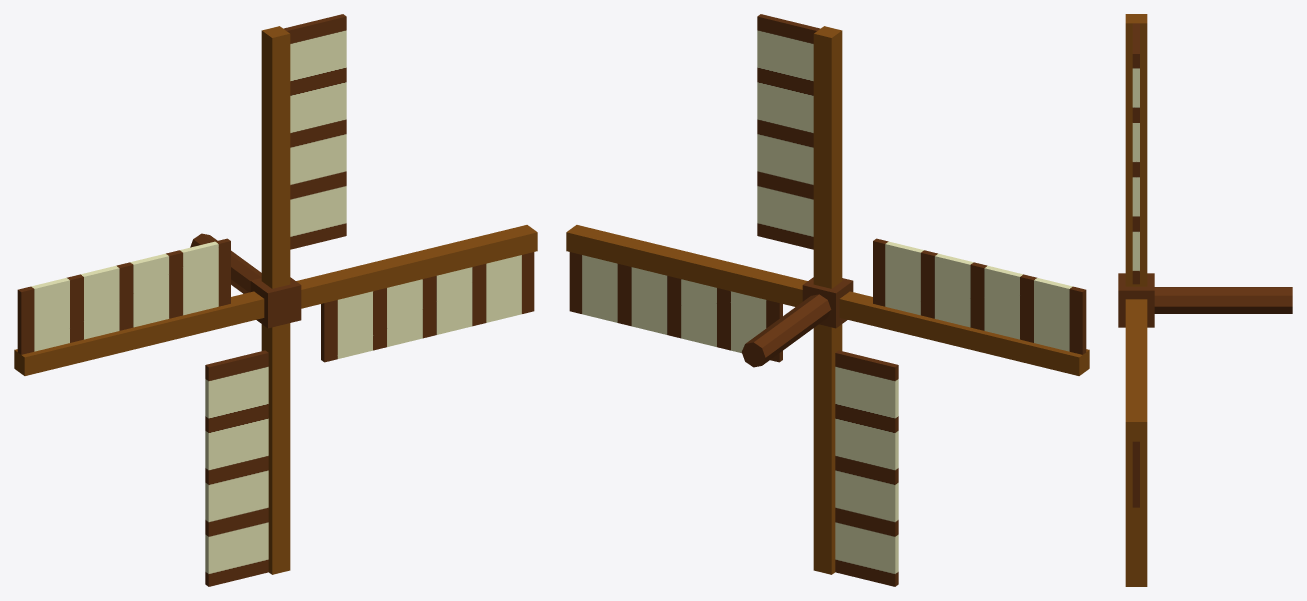
Rendered from Windmill_01_Propeller.fbx.
3 renders of one model, left to right at view 1: azimuth 30°, elevation 25°; view 2: azimuth 150°, elevation 25°; view 3: azimuth 270°, elevation 25°, orthographic. The views are drawn at different scales.
Visible parts, largest first — view 1: Windmill_01_Propeller; view 2: Windmill_01_Propeller; view 3: Windmill_01_Propeller.
Part boxes in pixels (<box>): Windmill_01_Propeller: <box>14,14,537,586</box>; Windmill_01_Propeller: <box>566,14,1089,586</box>; Windmill_01_Propeller: <box>1118,14,1292,586</box>.
Size of the model in its own units: 856 by 856 by 240.
Materials: 1 (1 with a texture image).
